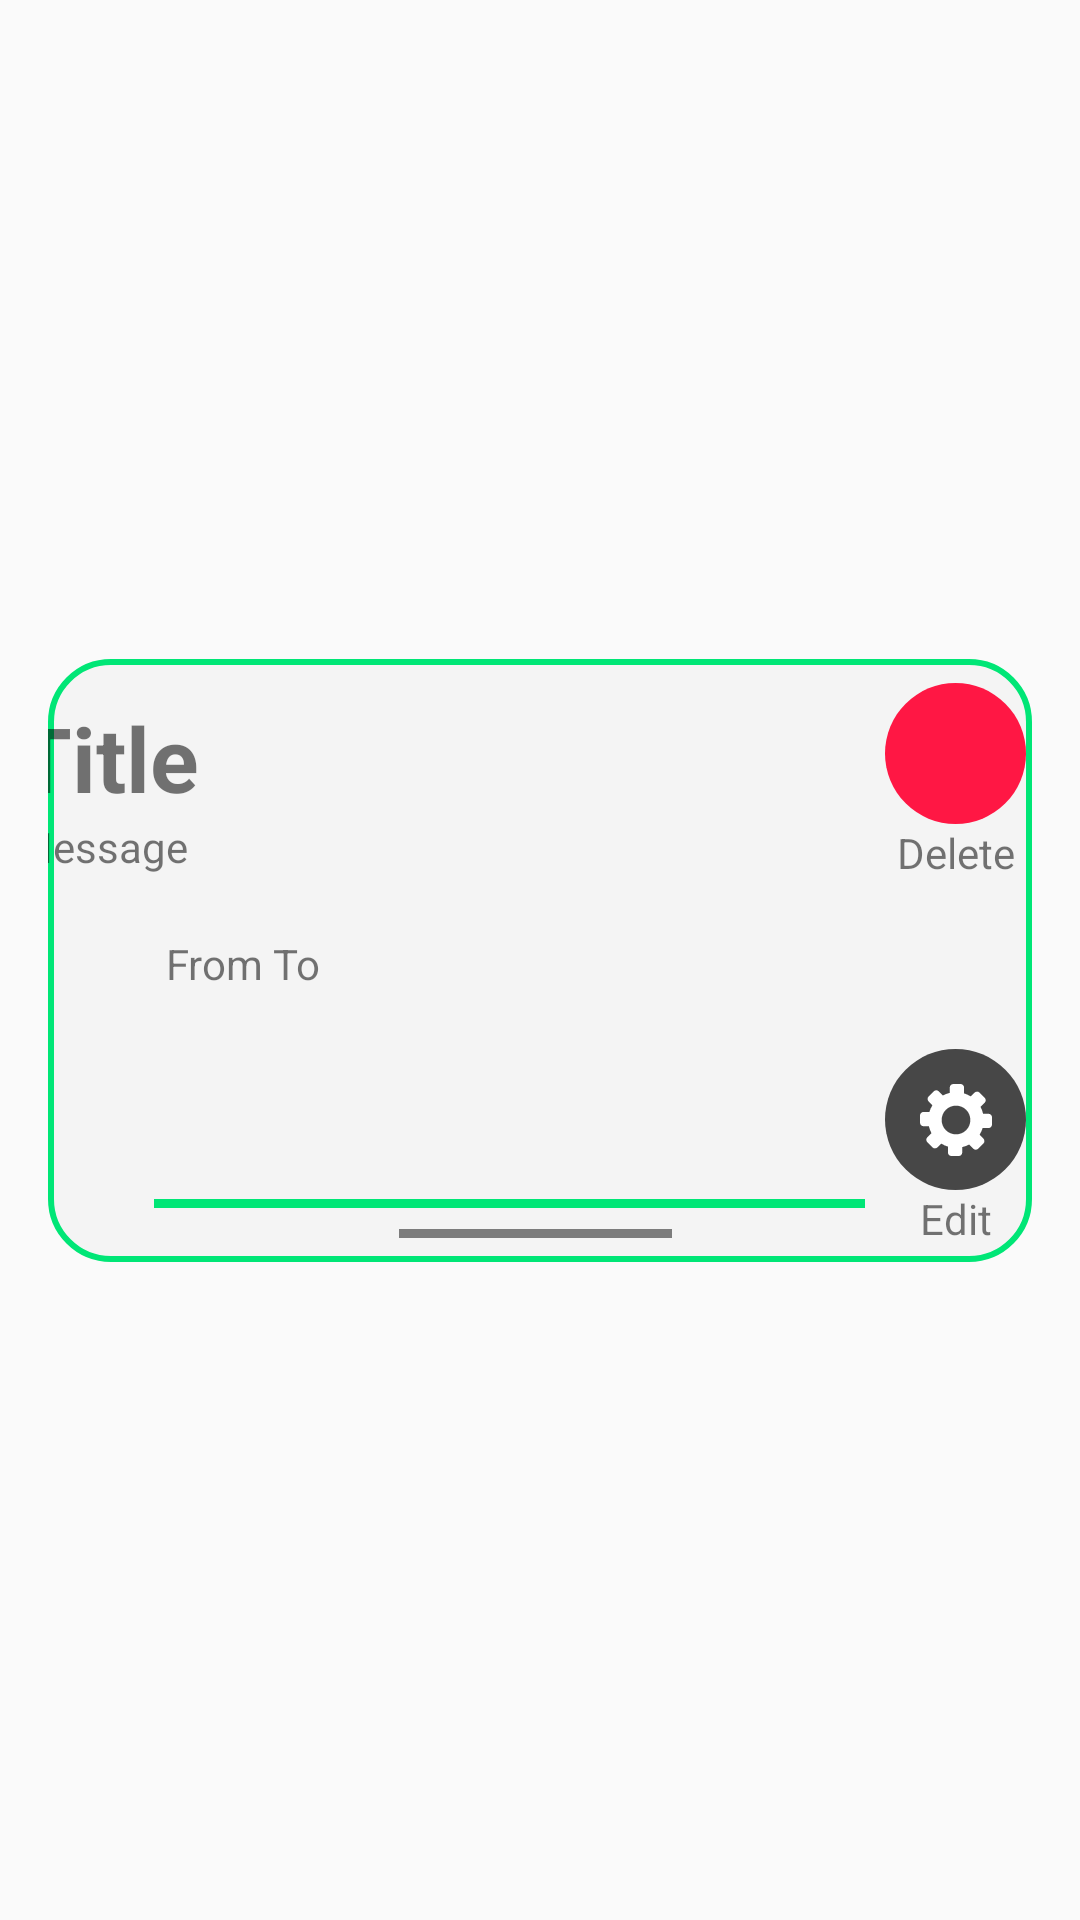

Named icons in this screenshot (1080 x 1920) and their bounding boxes, bbox=(x1, y1, x2, y2):
setting: bbox=(885, 1049, 1026, 1190)
